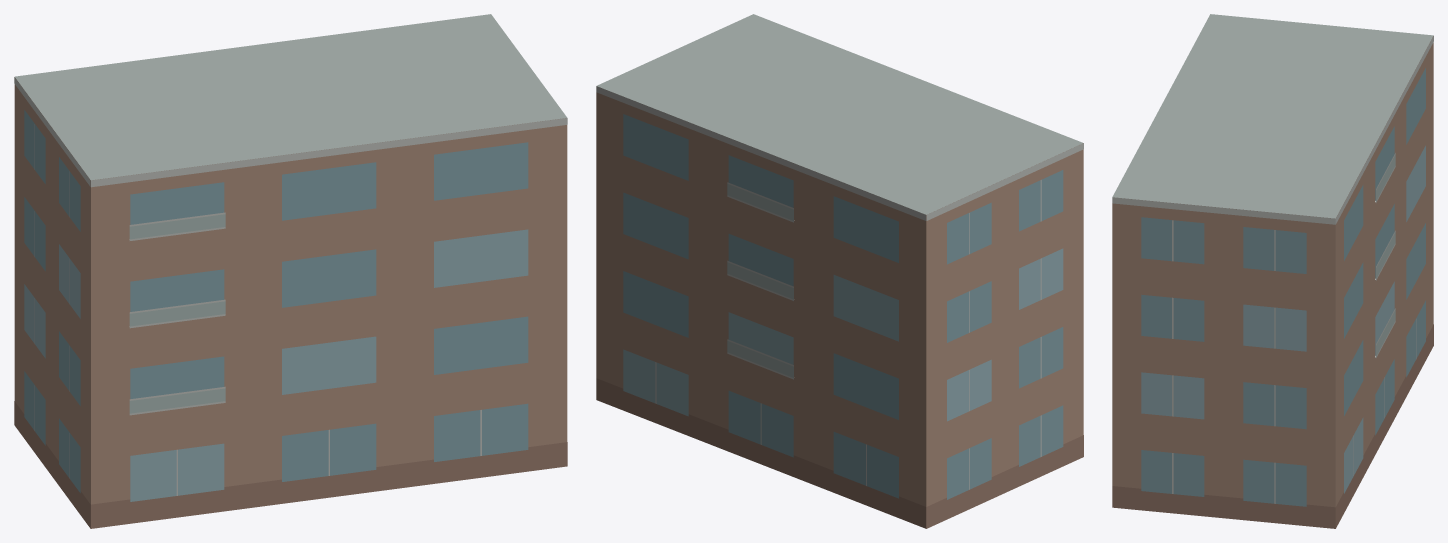
File: residential-252f28da-a791-4762-a9d0-b02d7667583e.glb
3 renders of one model, left to right at view 1: azimuth 30°, elevation 25°; view 2: azimuth 150°, elevation 25°; view 3: azimuth 270°, elevation 25°, orthographic. The views are drawn at different scales.
Visible parts, largest first — view 1: residential-252f28da-a791-4762-a9d0-b02d7667583e.tmp; view 2: residential-252f28da-a791-4762-a9d0-b02d7667583e.tmp; view 3: residential-252f28da-a791-4762-a9d0-b02d7667583e.tmp.
Part boxes in pixels (box(x1,y1,x2,y2)): residential-252f28da-a791-4762-a9d0-b02d7667583e.tmp: box(14, 14, 567, 528); residential-252f28da-a791-4762-a9d0-b02d7667583e.tmp: box(596, 14, 1083, 528); residential-252f28da-a791-4762-a9d0-b02d7667583e.tmp: box(1112, 14, 1433, 528).
Size of the model in its own units: 17.26 by 12.2 by 11.47.
